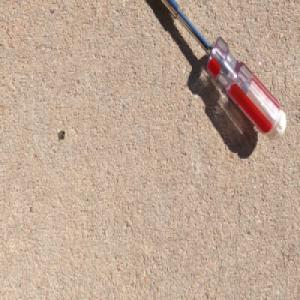Screwdriver: (157, 0, 287, 141)
